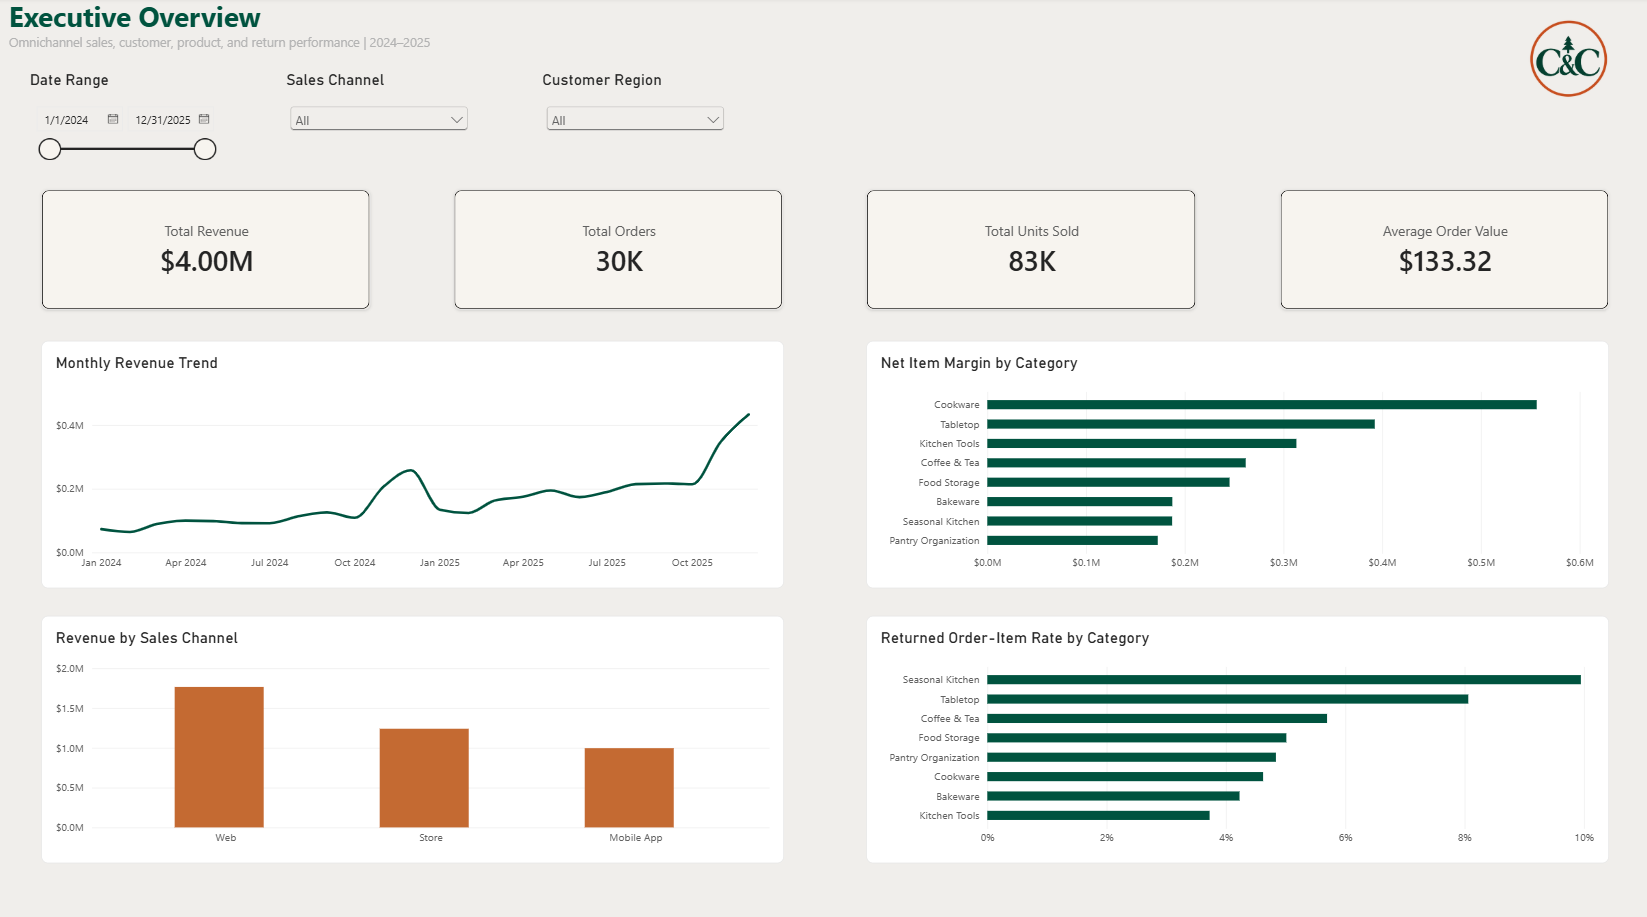

This screenshot's page, from the dashboard's own definition file:
{"tool":"powerbi","page":{"name":"Executive Overview","canvas":[1920,1080],"ordinal":0},"visuals":[{"type":"textbox","box":[10.7,0,589.1,89],"z":0},{"type":"cardVisual","fields":{"Data":["orders.Total Revenue"]},"box":[48.3,224.5,383.5,140.3],"z":1000},{"type":"cardVisual","fields":{"Data":["orders.Total Orders"]},"box":[528.5,224.5,383.5,140.3],"z":2000},{"type":"cardVisual","fields":{"Data":["order_items.Total Units Sold"]},"box":[1008,224,384,140],"z":3000},{"type":"cardVisual","fields":{"Data":["orders.Average Order Value"]},"box":[1488.7,224.5,383.5,140.3],"z":4000},{"type":"slicer","title":"Date Range","fields":{"Values":["orders.order_date"]},"box":[35,86,220,118],"z":5000},{"type":"slicer","title":"Sales Channel","fields":{"Values":["orders.sales_channel"]},"box":[333,86,216.4,95.7],"z":6000},{"type":"slicer","title":"Customer Region","fields":{"Values":["orders.customer_region"]},"box":[631,86,216.4,95.7],"z":7000},{"type":"lineChart","title":"Monthly Revenue Trend","fields":{"Category":["orders.order_date.Variation.Date Hierarchy.Year","orders.order_date.Variation.Date Hierarchy.Quarter","orders.order_date.Variation.Date Hierarchy.Month","orders.order_date.Variation.Date Hierarchy.Day"],"Y":["orders.Total Revenue"]},"box":[48,400,864,288],"z":8000},{"type":"clusteredColumnChart","title":"Revenue by Sales Channel","fields":{"Category":["orders.sales_channel"],"Y":["orders.Total Revenue"]},"box":[48,720,864,288],"z":9000},{"type":"clusteredBarChart","title":"Net Item Margin by Category","fields":{"Category":["products.category"],"Y":["order_items.Net Item Margin"]},"box":[1008,400,864,288],"z":10000},{"type":"clusteredBarChart","title":"Returned Order-Item Rate by Category","fields":{"Category":["products.category"],"Y":["order_items.Returned Order-Item Rate"]},"box":[1008,720,864,288],"z":11000},{"type":"image","box":[1742.8,9.4,163.7,124.7],"z":12000}]}

Visuals, with their boxes in screenshot pixels (x1, y1, x2, y2), scaled from the page's 1920x1080 canvas onto the 1647x917 screenshot:
textbox: (x1=9, y1=0, x2=515, y2=76)
cardVisual - orders.Total Revenue: (x1=41, y1=191, x2=370, y2=310)
cardVisual - orders.Total Orders: (x1=453, y1=191, x2=782, y2=310)
cardVisual - order_items.Total Units Sold: (x1=865, y1=190, x2=1194, y2=309)
cardVisual - orders.Average Order Value: (x1=1277, y1=191, x2=1606, y2=310)
"Date Range" slicer: (x1=30, y1=73, x2=219, y2=173)
"Sales Channel" slicer: (x1=286, y1=73, x2=471, y2=154)
"Customer Region" slicer: (x1=541, y1=73, x2=727, y2=154)
"Monthly Revenue Trend" lineChart: (x1=41, y1=340, x2=782, y2=584)
"Revenue by Sales Channel" clusteredColumnChart: (x1=41, y1=611, x2=782, y2=856)
"Net Item Margin by Category" clusteredBarChart: (x1=865, y1=340, x2=1606, y2=584)
"Returned Order-Item Rate by Category" clusteredBarChart: (x1=865, y1=611, x2=1606, y2=856)
image: (x1=1495, y1=8, x2=1635, y2=114)
